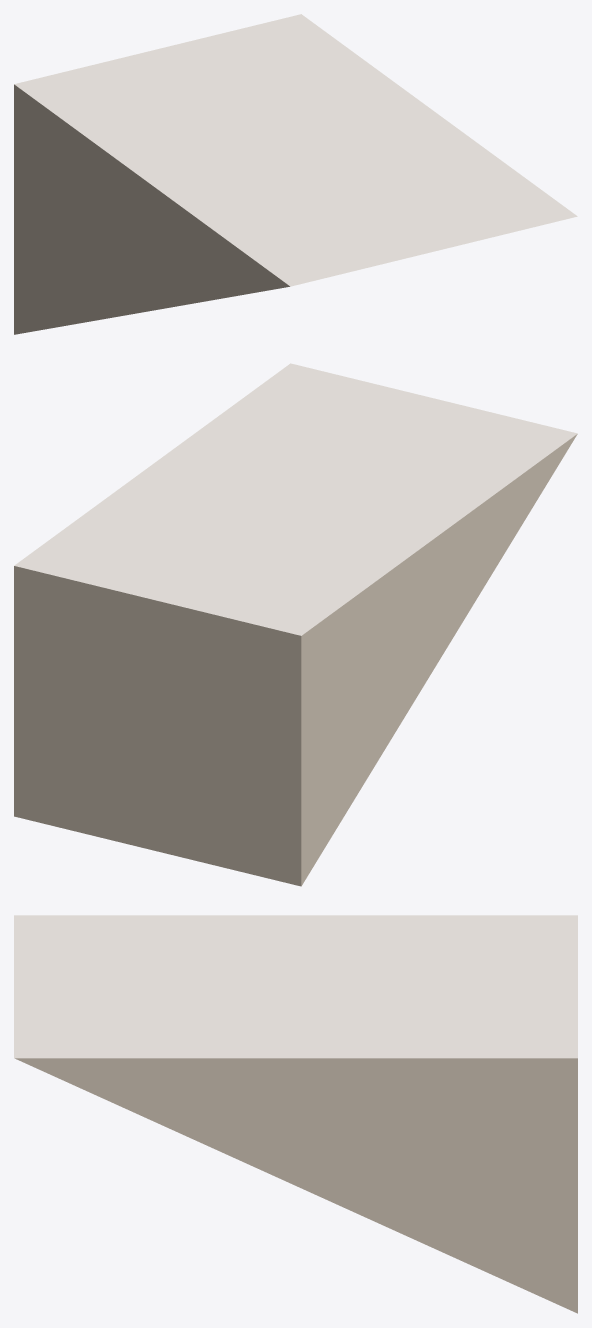
Rendered from temple_Stairs_Under_Ramp_Straight.glb.
The picture shows the model from 3 angles, top to bottom: view 1: azimuth 30°, elevation 25°; view 2: azimuth 150°, elevation 25°; view 3: azimuth 270°, elevation 25°; orthographic projection.
Parts seen in each view (by area): view 1: object1; view 2: object1; view 3: object1.
Part boxes in pixels (bbox=[...]): object1: bbox=[14, 14, 577, 334]; object1: bbox=[14, 363, 577, 886]; object1: bbox=[14, 915, 577, 1313].
Size of the model in its own units: 1.2 by 1 by 2.
